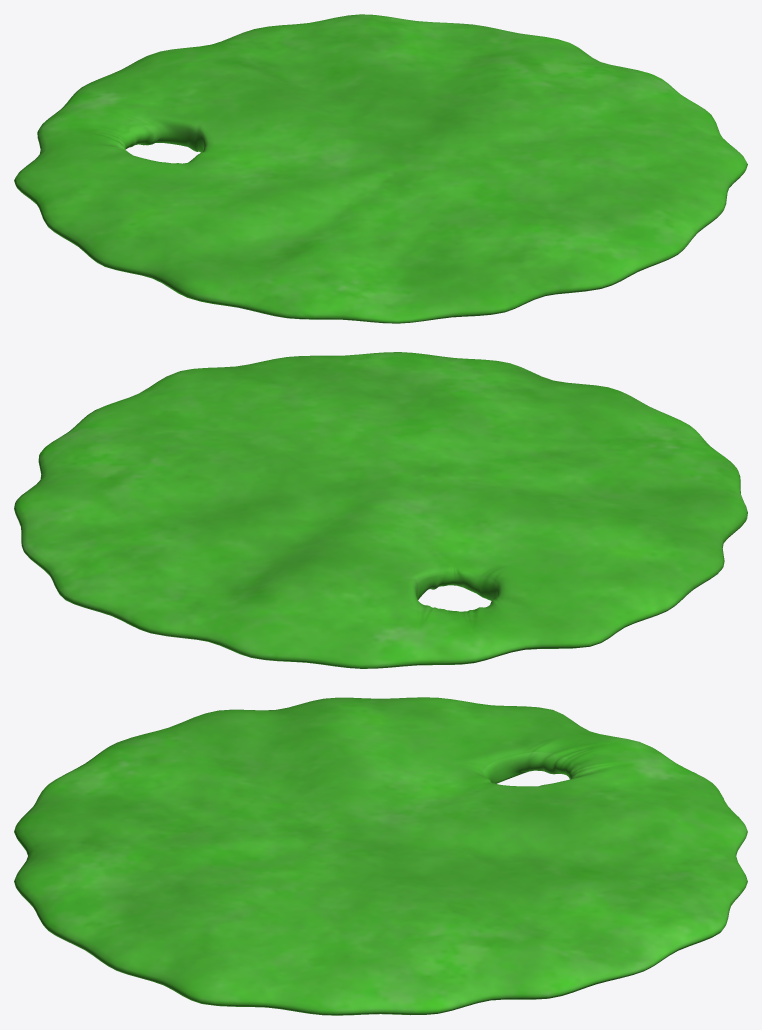
File: SwimmingLilly.fbx
3 views of the same model, one above another, from view 1: azimuth 30°, elevation 25°; view 2: azimuth 150°, elevation 25°; view 3: azimuth 270°, elevation 25° (orthographic). The views are drawn at different scales.
Visible parts, largest first — view 1: Cylinder_005; view 2: Cylinder_005; view 3: Cylinder_005.
Part boxes in pixels (<box>): Cylinder_005: <box>14,14,747,323</box>; Cylinder_005: <box>14,352,747,668</box>; Cylinder_005: <box>14,697,747,1015</box>.
Size of the model in its own units: 3.38 by 0.1906 by 3.34.
